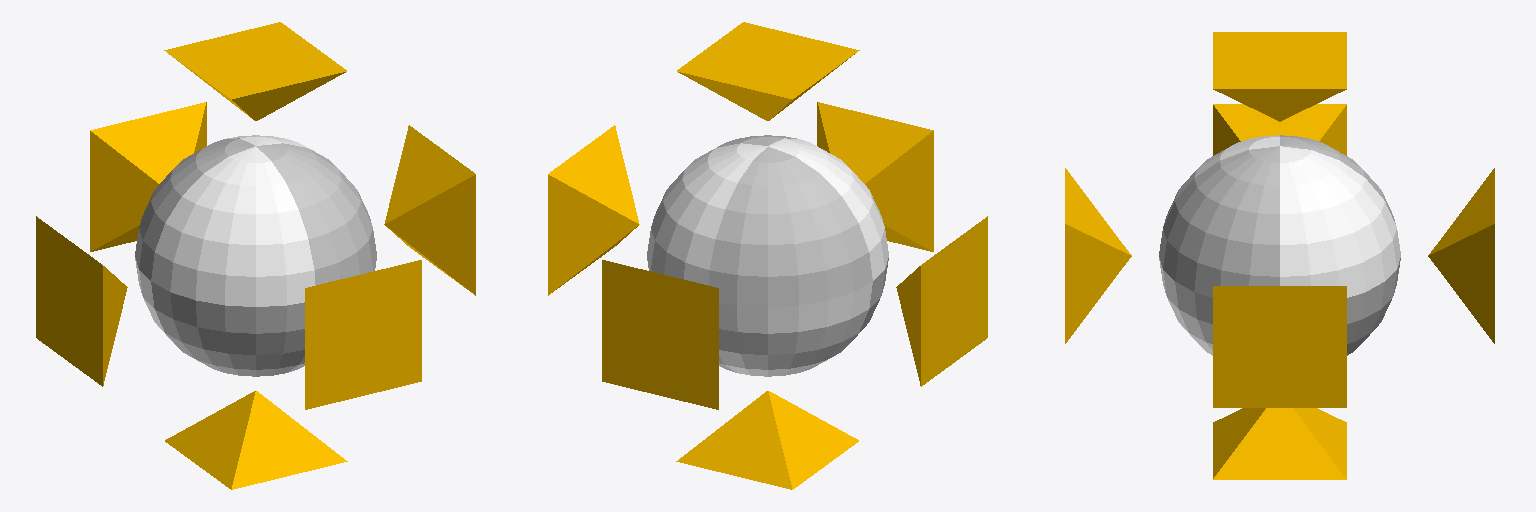
3 views of the same model, side by side, from view 1: azimuth 30°, elevation 25°; view 2: azimuth 150°, elevation 25°; view 3: azimuth 270°, elevation 25° (orthographic).
Visible parts, largest first — view 1: entity1_brush1, entity0_brush4, entity0_brush5, entity0_brush1, entity0_brush3, entity0_brush0, entity0_brush2, entity1_brush3, entity1_brush0, entity1_brush5; view 2: entity1_brush5, entity0_brush5, entity0_brush4, entity0_brush1, entity0_brush3, entity0_brush0, entity0_brush2, entity1_brush7, entity1_brush4, entity1_brush1; view 3: entity0_brush3, entity1_brush0, entity1_brush4, entity0_brush2, entity0_brush0, entity0_brush4, entity0_brush5, entity0_brush1, entity1_brush2, entity1_brush6, entity1_brush1, entity1_brush5.
Boxes of the visible parts, box(x1,y1,x2,y2) form: entity1_brush1: box(151, 146, 315, 306); entity0_brush4: box(305, 260, 421, 409); entity0_brush5: box(90, 102, 206, 251); entity0_brush1: box(36, 216, 127, 386); entity0_brush3: box(384, 125, 475, 295); entity0_brush0: box(165, 391, 347, 489); entity0_brush2: box(164, 22, 346, 120); entity1_brush3: box(151, 282, 304, 376); entity1_brush0: box(256, 143, 376, 284); entity1_brush5: box(135, 138, 254, 280); entity1_brush5: box(708, 146, 872, 306); entity0_brush5: box(602, 260, 718, 409); entity0_brush4: box(817, 102, 933, 251); entity0_brush1: box(896, 216, 987, 386); entity0_brush3: box(548, 125, 639, 295); entity0_brush0: box(676, 391, 858, 489); entity0_brush2: box(677, 22, 859, 120); entity1_brush7: box(719, 282, 872, 376); entity1_brush4: box(647, 143, 767, 284); entity1_brush1: box(769, 138, 888, 280); entity0_brush3: box(1213, 286, 1346, 407); entity1_brush0: box(1159, 146, 1279, 297); entity1_brush4: box(1280, 146, 1400, 297); entity0_brush2: box(1213, 32, 1346, 121); entity0_brush0: box(1213, 408, 1346, 479); entity0_brush4: box(1065, 168, 1131, 343); entity0_brush5: box(1428, 168, 1494, 343); entity0_brush1: box(1213, 104, 1346, 155); entity1_brush2: box(1159, 258, 1212, 355); entity1_brush6: box(1347, 258, 1400, 355); entity1_brush1: box(1164, 135, 1279, 223); entity1_brush5: box(1280, 135, 1395, 223).
Size of the model in its own units: 128 by 128 by 128.
3 materials, 2 textured.